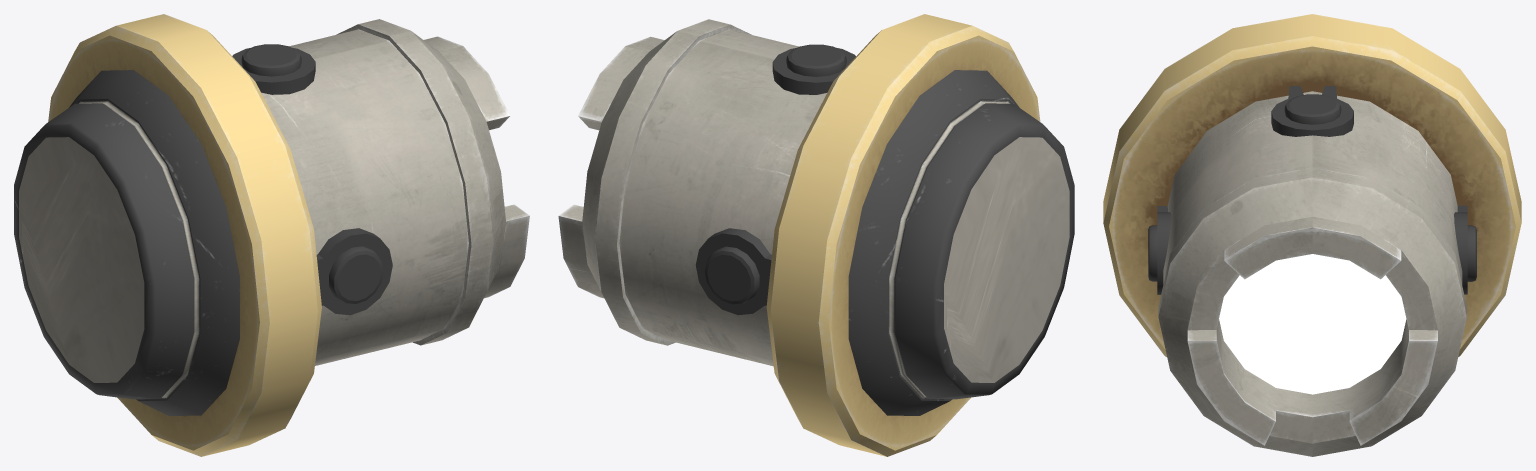
The model's file is guard_2_c_b.glb.
The picture shows the model from 3 angles, left to right: view 1: azimuth 30°, elevation 25°; view 2: azimuth 150°, elevation 25°; view 3: azimuth 270°, elevation 25°; orthographic projection. The views are drawn at different scales.
Parts seen in each view (by area): view 1: guard_2_c_b_lod0; view 2: guard_2_c_b_lod0; view 3: guard_2_c_b_lod0.
Part boxes in pixels (bbox=[...]): guard_2_c_b_lod0: bbox=[14, 14, 529, 456]; guard_2_c_b_lod0: bbox=[558, 14, 1074, 456]; guard_2_c_b_lod0: bbox=[1103, 14, 1521, 456].
Size of what is drawn, in the model's own units: 0.047 by 0.047 by 0.0475.
1 material, 1 textured.
